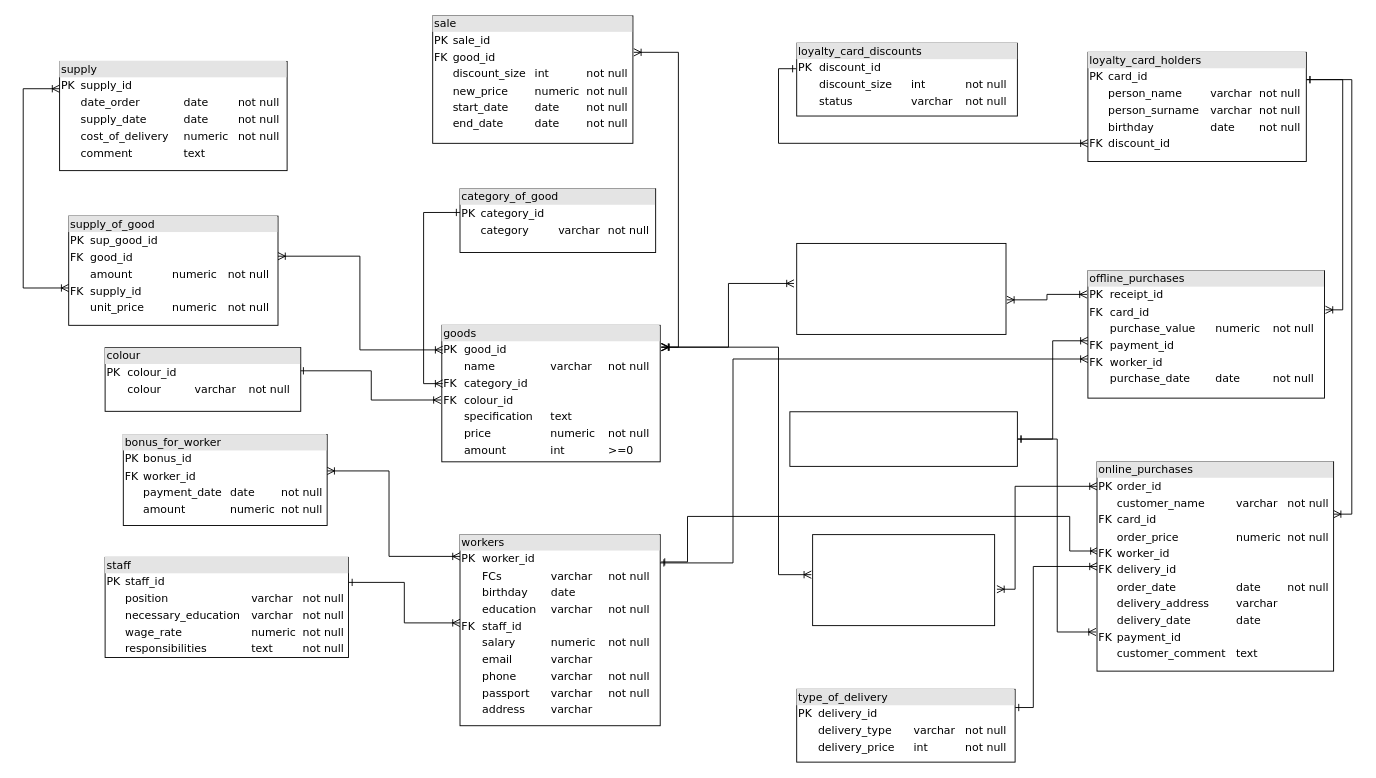
This 1376x778 diagram has some shape labels left out. The centre of each missing label's shape, as x and y in pixels:
"goods_sold_offline PK off_sold_id FK good_id FK receipt_id cost int not null" belongs at (901,288).
"goods_sold_online PK on_sold_id FK good_id FK order_id cost int not null" belongs at (903,580).
"payment_methods PK payment_id payment_method varchar not null" belongs at (903,438).
